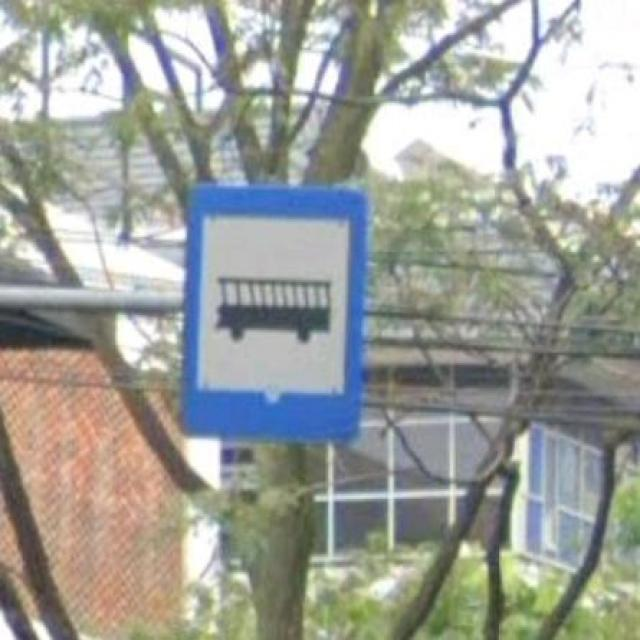traffic sign: (182, 183, 366, 445)
